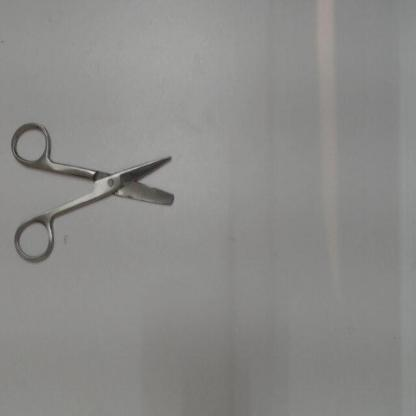Dressing Scissors: (6, 114, 190, 273)
